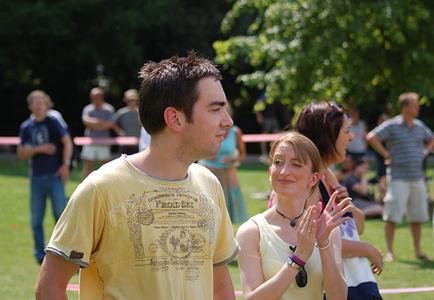person: (234, 129, 356, 300)
